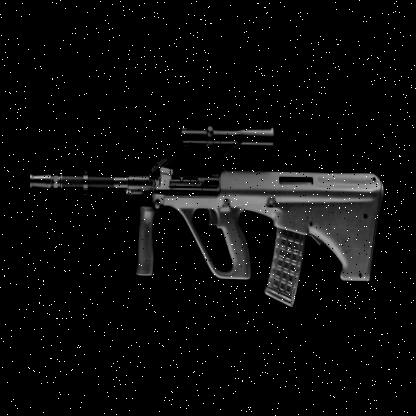rifle: (27, 110, 387, 320)
